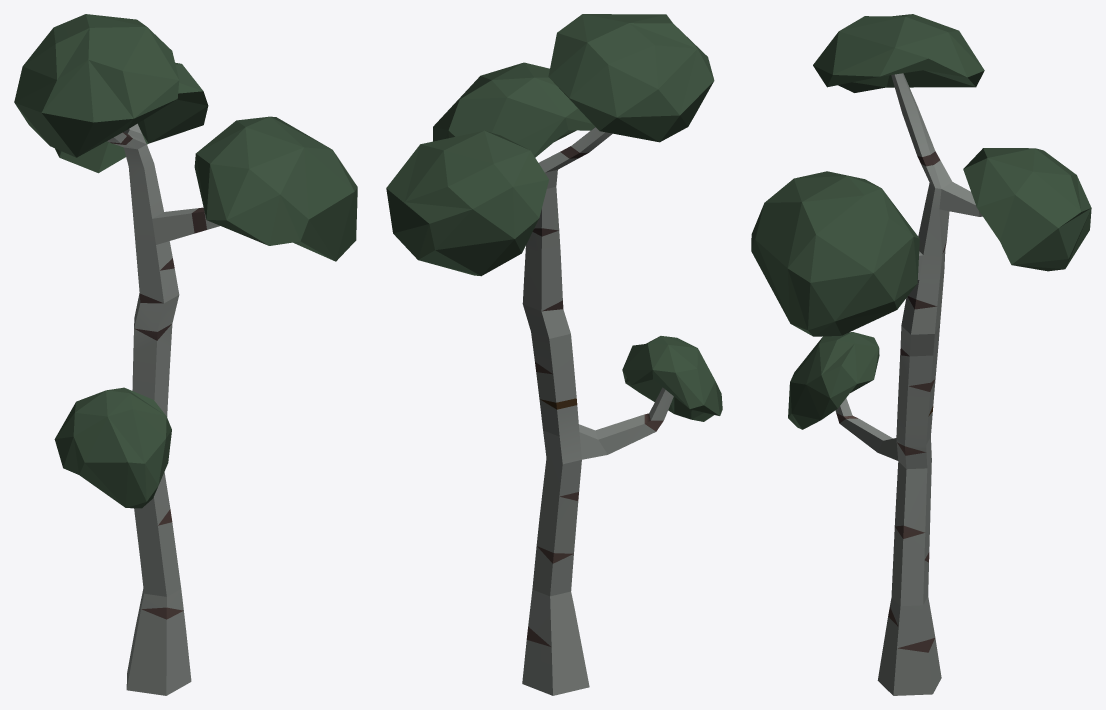
Rendered from SM_Env_TreeBirch_03.gltf.
3 renders of one model, left to right at view 1: azimuth 30°, elevation 25°; view 2: azimuth 150°, elevation 25°; view 3: azimuth 270°, elevation 25°, orthographic. The views are drawn at different scales.
Visible parts, largest first — view 1: SM_Env_TreeBirch_03; view 2: SM_Env_TreeBirch_03; view 3: SM_Env_TreeBirch_03.
Boxes of the visible parts, x1=… form: SM_Env_TreeBirch_03: x1=14, y1=14, x2=357, y2=695; SM_Env_TreeBirch_03: x1=386, y1=14, x2=722, y2=695; SM_Env_TreeBirch_03: x1=751, y1=14, x2=1091, y2=695.
Size of the model in its own units: 2.37 by 5.32 by 2.58.
1 material, 1 textured.
